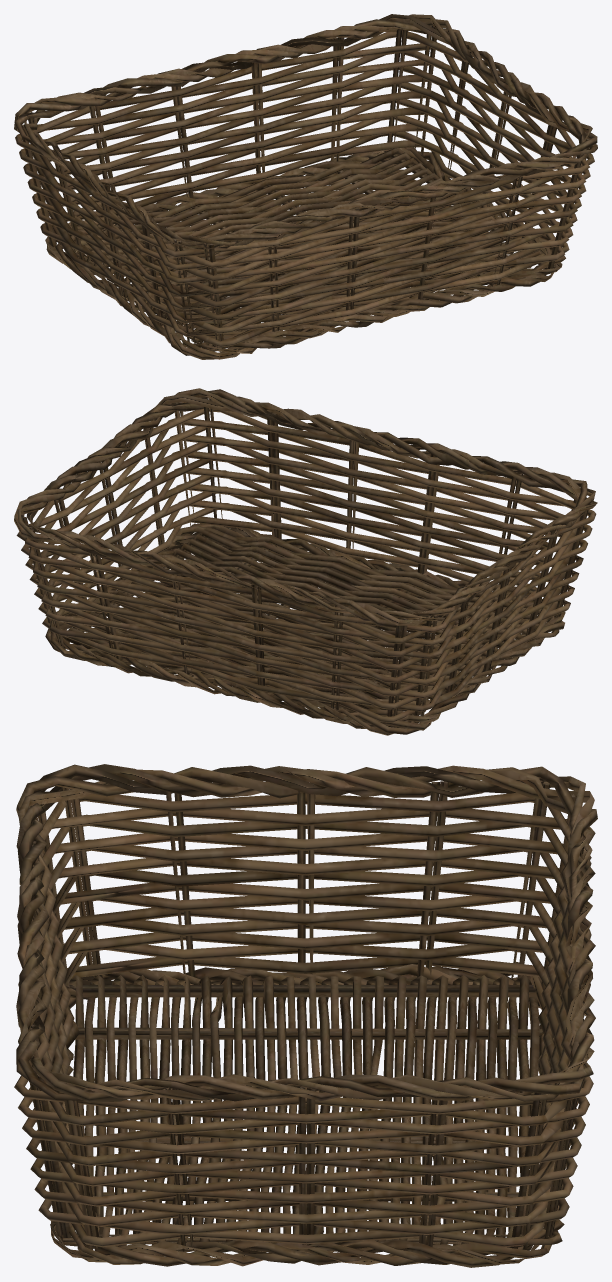
File: wicker_basket_01.glb
The picture shows the model from 3 angles, top to bottom: view 1: azimuth 30°, elevation 25°; view 2: azimuth 150°, elevation 25°; view 3: azimuth 270°, elevation 25°; orthographic projection. The views are drawn at different scales.
Visible parts, largest first — view 1: wicker_basket_01; view 2: wicker_basket_01; view 3: wicker_basket_01.
Boxes of the visible parts, x1,y1,x2,y2 form: wicker_basket_01: (14, 14, 597, 359); wicker_basket_01: (14, 388, 597, 735); wicker_basket_01: (14, 764, 597, 1267).
Size of the model in its own units: 0.383 by 0.1174 by 0.2939.
1 material, 1 textured.
